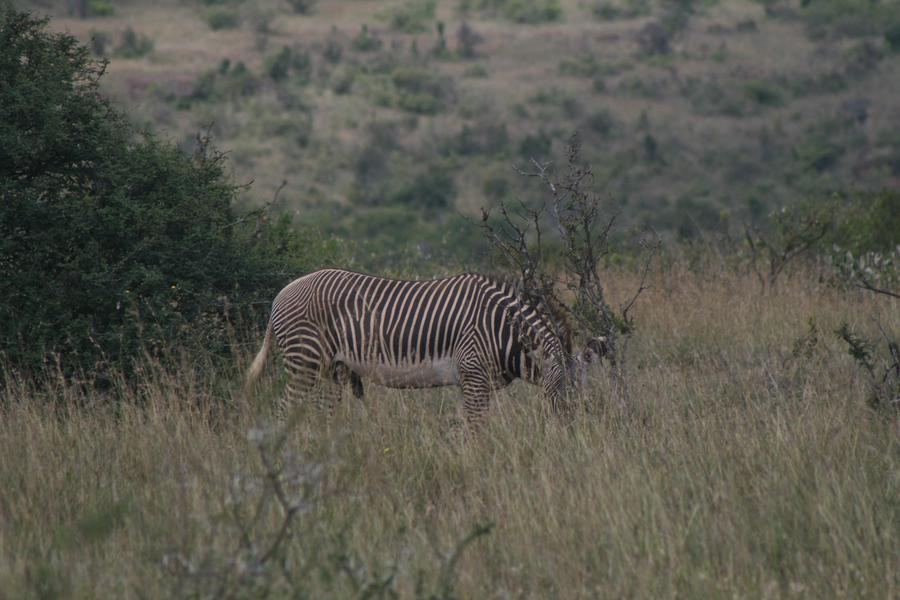zebra_grevys: (279, 248, 495, 392)
